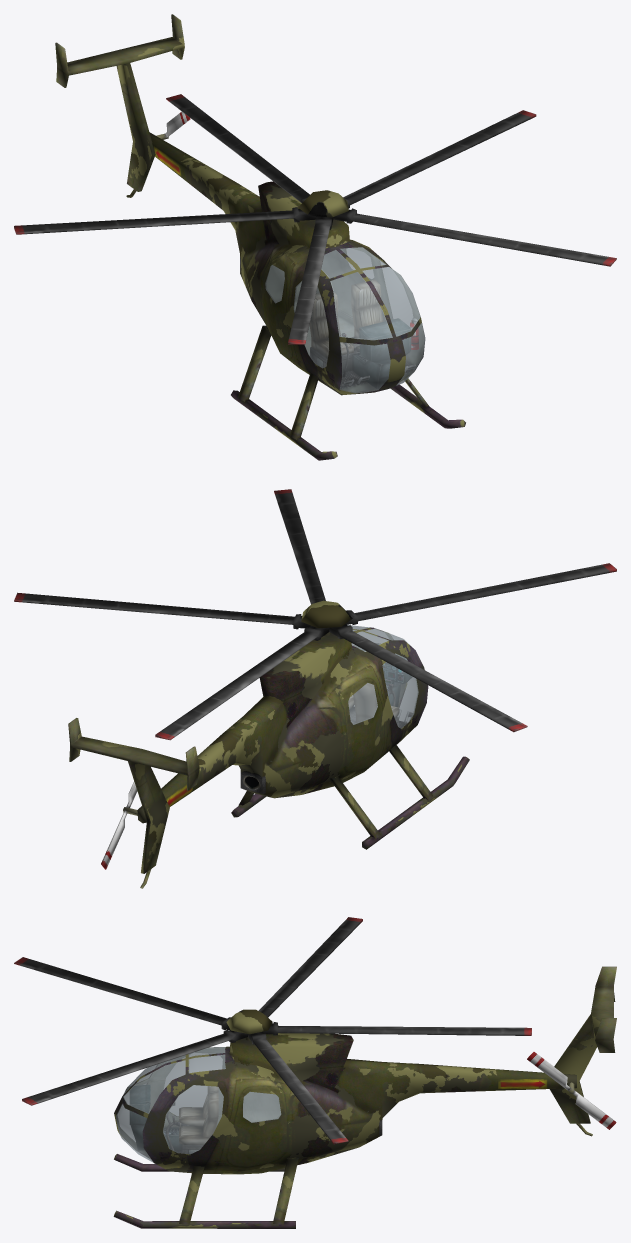
File: MD-500-civil.fbx
The picture shows the model from 3 angles, top to bottom: view 1: azimuth 30°, elevation 25°; view 2: azimuth 150°, elevation 25°; view 3: azimuth 270°, elevation 25°; orthographic projection. The views are drawn at different scales.
Visible parts, largest first — view 1: Helicopter, Top_rotor, Glass, Cockpit; view 2: Helicopter, Top_rotor, Glass, Cockpit, Tail_Rotor; view 3: Helicopter, Top_rotor, Glass, Cockpit, Tail_Rotor.
Part boxes in pixels (<box>): Helicopter: <box>55,14,465,460</box>; Top_rotor: <box>14,94,616,344</box>; Glass: <box>265,247,425,393</box>; Cockpit: <box>265,247,424,392</box>; Helicopter: <box>68,627,469,888</box>; Top_rotor: <box>14,489,616,740</box>; Glass: <box>347,625,418,728</box>; Cockpit: <box>348,629,418,728</box>; Tail_Rotor: <box>101,781,137,869</box>; Helicopter: <box>113,966,616,1228</box>; Top_rotor: <box>14,917,531,1144</box>; Glass: <box>116,1047,280,1162</box>; Cockpit: <box>116,1047,280,1155</box>; Tail_Rotor: <box>527,1052,616,1129</box>.
Bounding box in the file's own units: 1165 × 491 × 1315.
